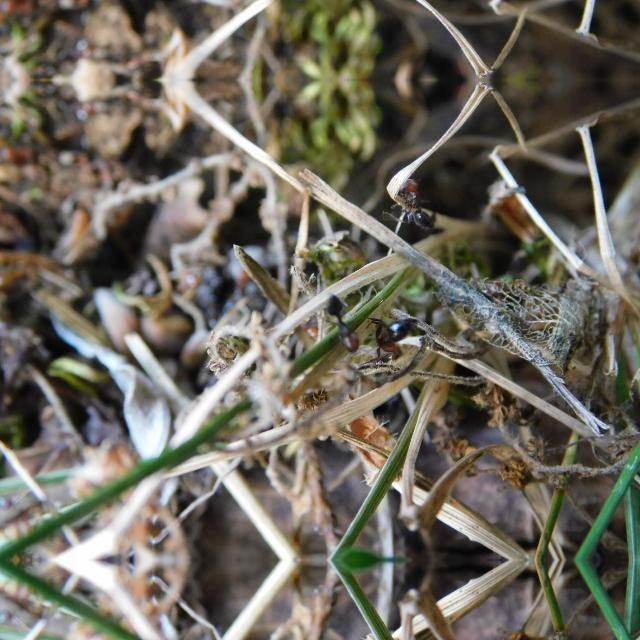Crematogaster: (369, 319, 419, 363), (324, 294, 358, 356), (398, 176, 437, 227)
